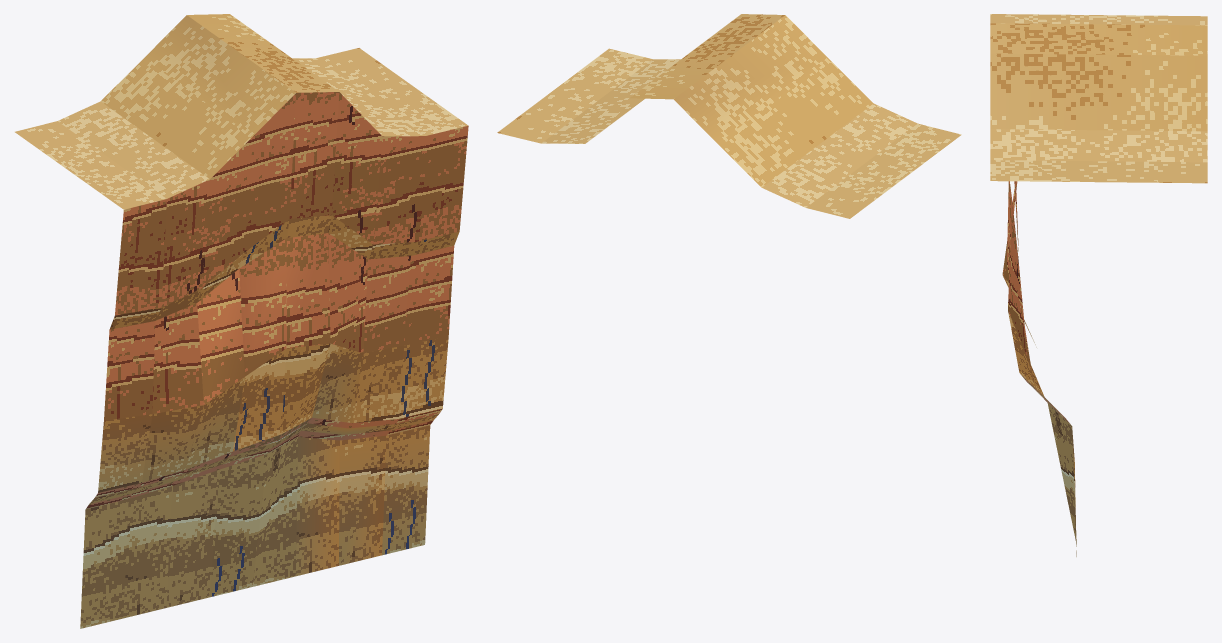
File: wland.canyon_wall.glb
3 renders of one model, left to right at view 1: azimuth 30°, elevation 25°; view 2: azimuth 150°, elevation 25°; view 3: azimuth 270°, elevation 25°, orthographic. The views are drawn at different scales.
Visible parts, largest first — view 1: kit_shell_face, kit_shell_cap; view 2: kit_shell_cap; view 3: kit_shell_cap, kit_shell_face.
Boxes of the visible parts, left/top/right/bottom form: kit_shell_face: left=80, top=92, right=468, bottom=628; kit_shell_cap: left=15, top=14, right=467, bottom=209; kit_shell_cap: left=497, top=14, right=961, bottom=218; kit_shell_cap: left=990, top=14, right=1207, bottom=183; kit_shell_face: left=1002, top=181, right=1076, bottom=556.
Bounding box in the file's own units: 8 × 11.66 × 4.4.
3 materials, 3 textured.
